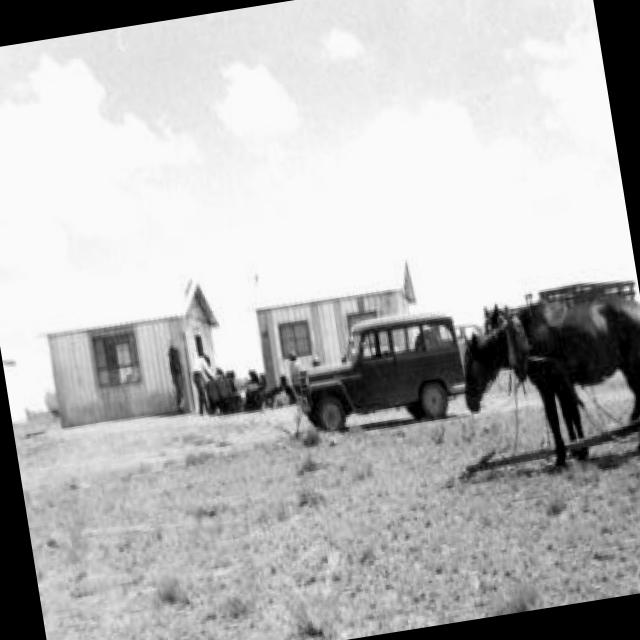Vehicle: (289, 306, 470, 444)
